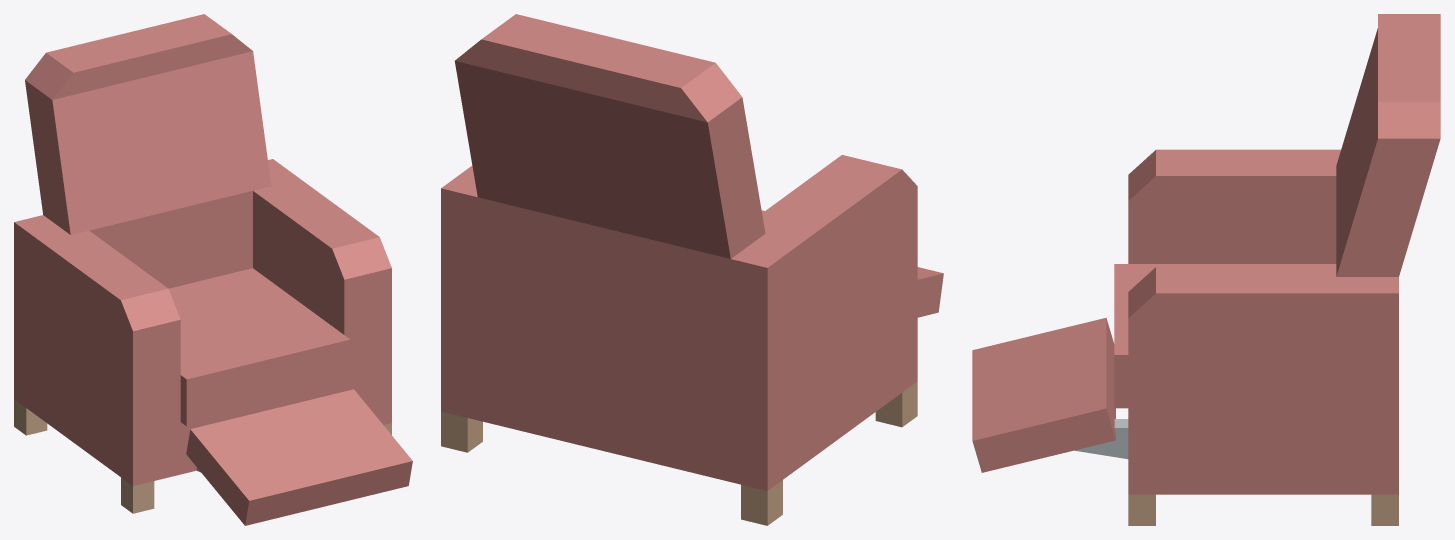
Rendered from loungeChairRelax.glb.
3 views of the same model, side by side, from view 1: azimuth 30°, elevation 25°; view 2: azimuth 150°, elevation 25°; view 3: azimuth 270°, elevation 25° (orthographic). The views are drawn at different scales.
Visible parts, largest first — view 1: loungeChairRelax; view 2: loungeChairRelax; view 3: loungeChairRelax.
Boxes of the visible parts, x1,y1,x2,y2 form: loungeChairRelax: [14, 14, 412, 525]; loungeChairRelax: [441, 14, 943, 525]; loungeChairRelax: [972, 14, 1440, 525].
Bounding box in the file's own units: 0.49 × 0.63 × 0.6747.
